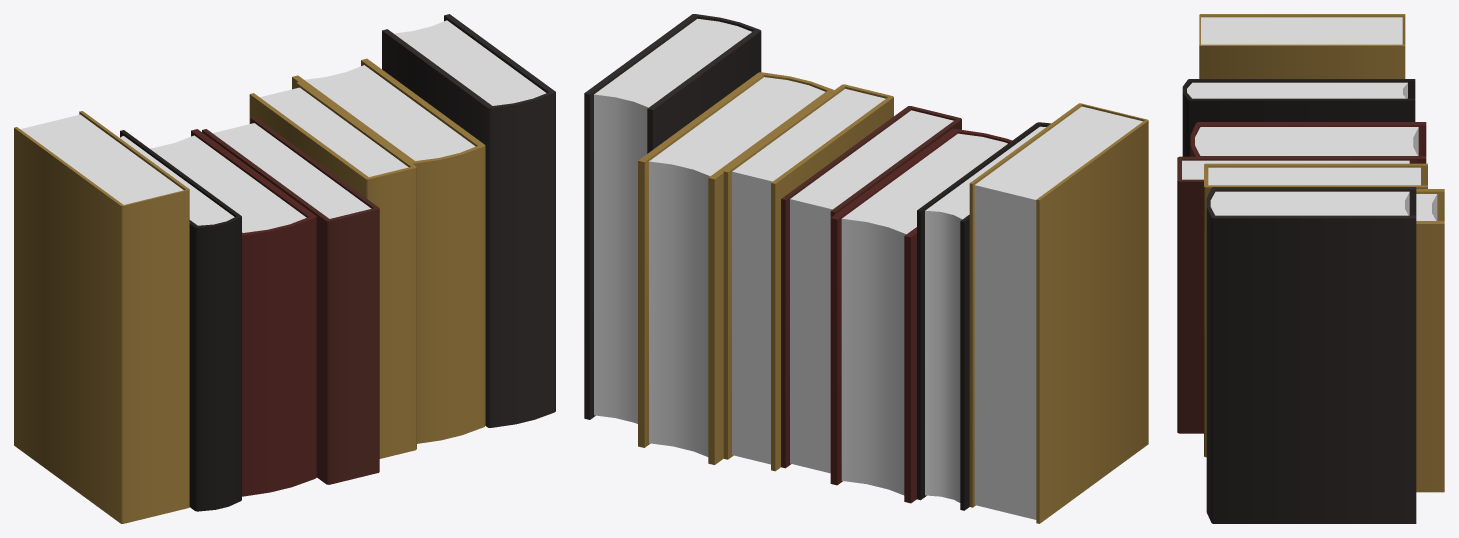
The model's file is 073_books_medium.glb.
3 views of the same model, side by side, from view 1: azimuth 30°, elevation 25°; view 2: azimuth 150°, elevation 25°; view 3: azimuth 270°, elevation 25° (orthographic). The views are drawn at different scales.
Parts seen in each view (by area): view 1: Plane.001, Plane.008, Plane.005, Plane.006, Plane, Plane.004, Plane.002; view 2: Plane.001, Plane.005, Plane.006, Plane.008, Plane.004, Plane, Plane.002; view 3: Plane.008, Plane.001, Plane.002, Plane, Plane.005, Plane.006, Plane.004.
Boxes of the visible parts, x1=… form: Plane.001: x1=14, y1=111, x2=189, y2=523; Plane.008: x1=382, y1=14, x2=555, y2=427; Plane.005: x1=292, y1=58, x2=485, y2=443; Plane.006: x1=150, y1=129, x2=316, y2=496; Plane: x1=202, y1=117, x2=379, y2=484; Plane.004: x1=249, y1=81, x2=416, y2=458; Plane.002: x1=120, y1=130, x2=241, y2=511; Plane.001: x1=969, y1=103, x2=1148, y2=523; Plane.005: x1=638, y1=72, x2=833, y2=464; Plane.006: x1=830, y1=129, x2=1011, y2=503; Plane.008: x1=584, y1=14, x2=761, y2=423; Plane.004: x1=723, y1=84, x2=893, y2=471; Plane: x1=781, y1=106, x2=961, y2=473; Plane.002: x1=917, y1=122, x2=1050, y2=510; Plane.008: x1=1206, y1=187, x2=1416, y2=523; Plane.001: x1=1199, y1=14, x2=1405, y2=78; Plane.002: x1=1182, y1=79, x2=1415, y2=156; Plane: x1=1177, y1=156, x2=1417, y2=433; Plane.005: x1=1416, y1=189, x2=1444, y2=492; Plane.006: x1=1190, y1=122, x2=1426, y2=163; Plane.004: x1=1204, y1=163, x2=1427, y2=457.
Bounding box in the file's own units: 1.08 × 0.7494 × 0.5942.
